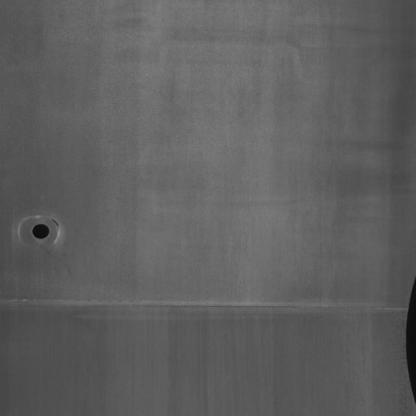punching_hole: (26, 220, 54, 245)
welding_line: (0, 285, 410, 318)
